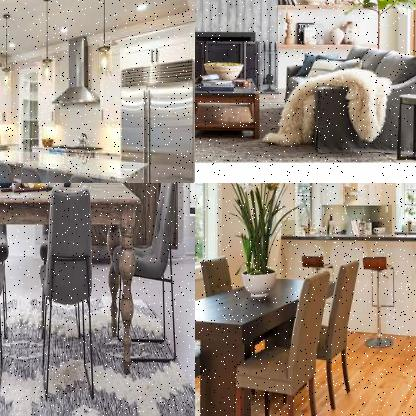table: (0, 183, 145, 378), (195, 265, 347, 415), (0, 140, 152, 182), (195, 68, 264, 142)
